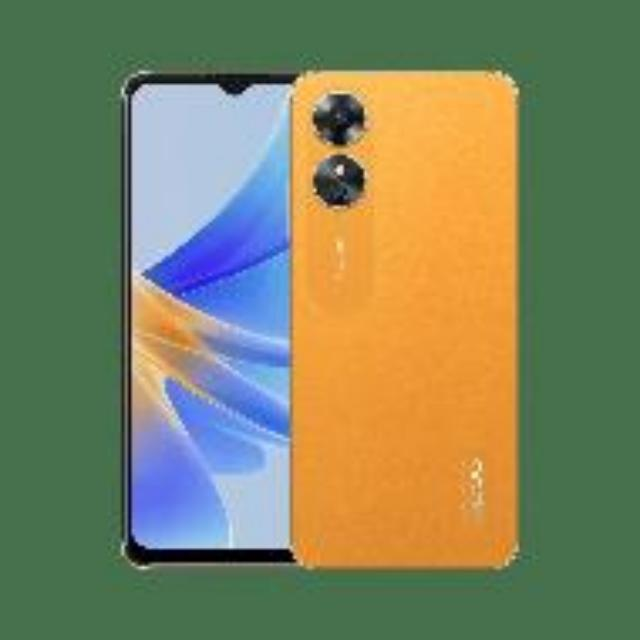Phone: (292, 71, 516, 569), (121, 68, 289, 566)
